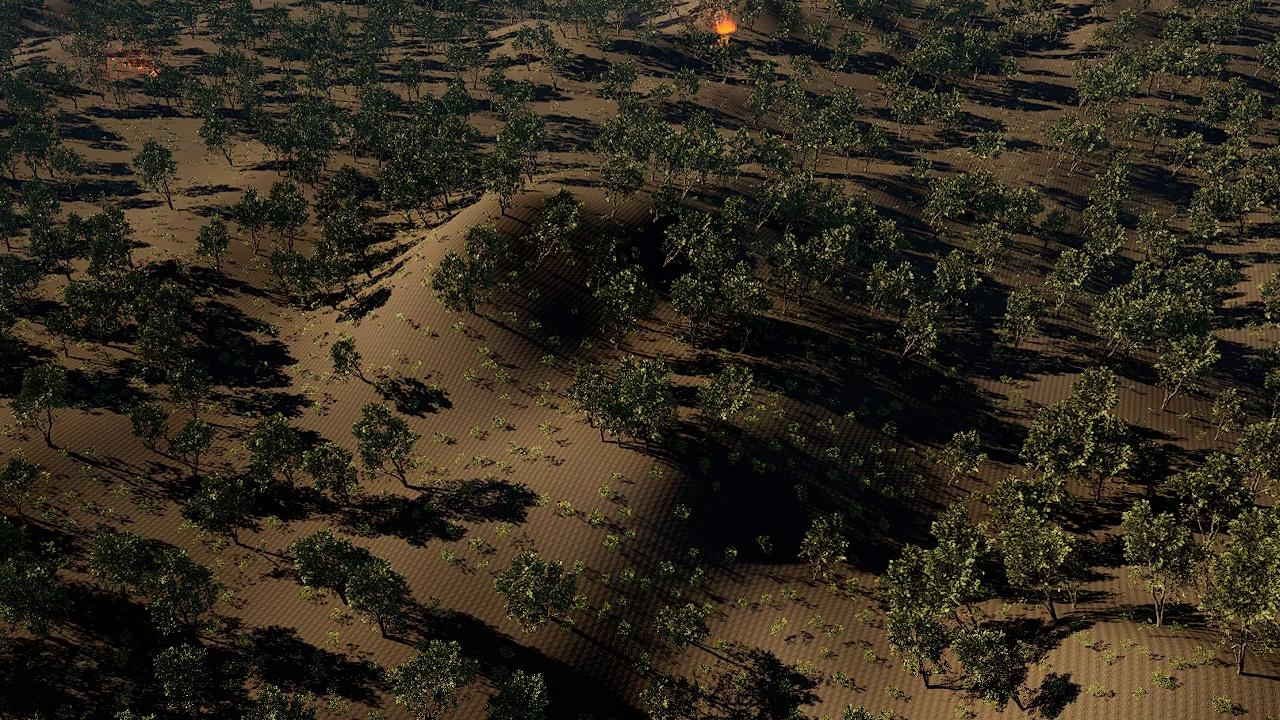fire: (119, 55, 162, 83), (716, 22, 735, 36)
